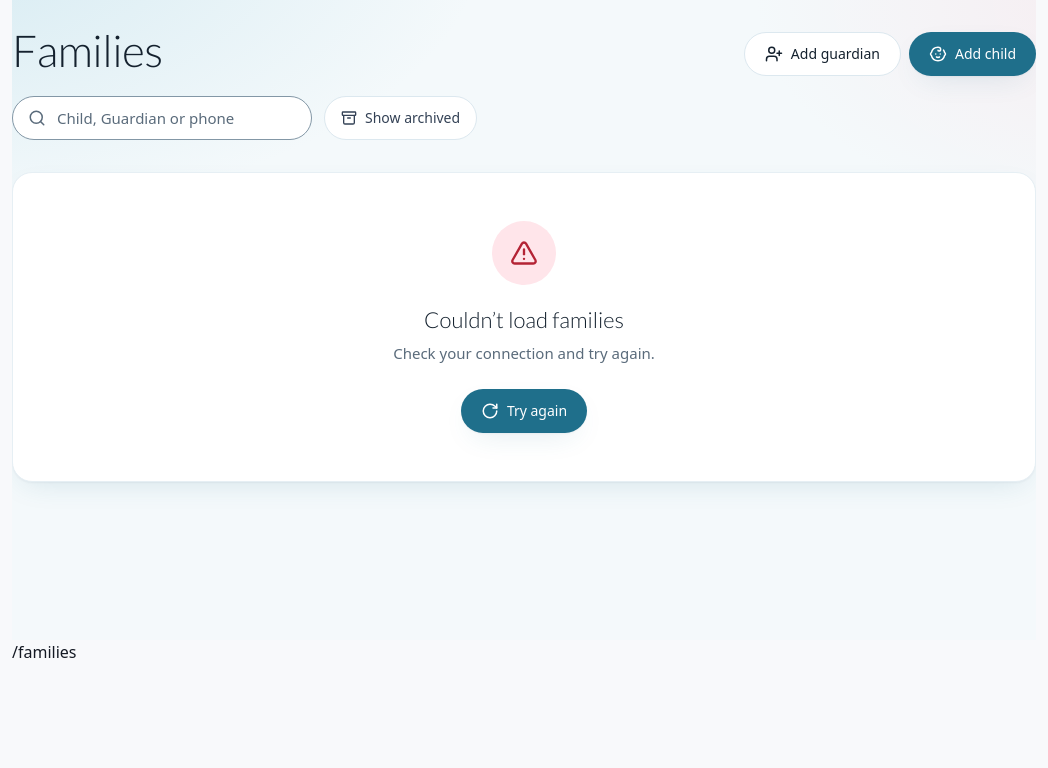
Scenario: families list › offers Try again when the list fails to load
This screenshot has width=1048, height=768.
Check: the heading "Couldn’t load families" is shown, box x1=424 y1=305 x2=624 y2=335
Check: the heading "Families" is shown, box x1=12 y1=24 x2=163 y2=76
Click the button "Try again".
click(524, 411)  # box x1=461 y1=389 x2=587 y2=433
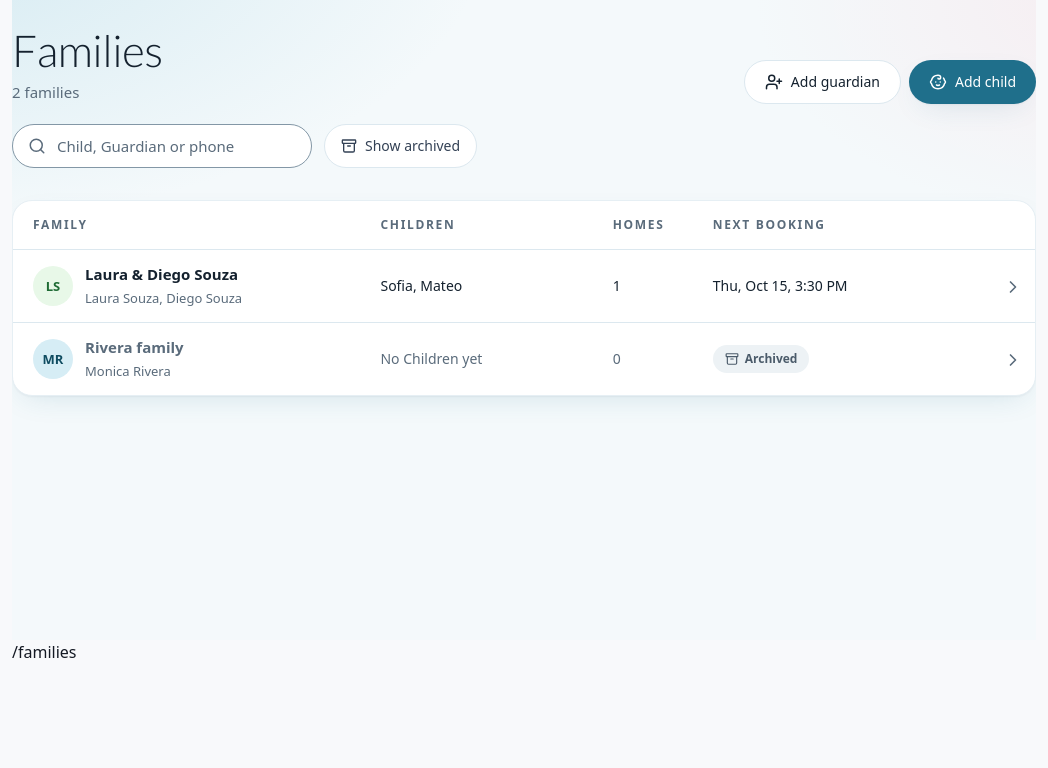
Check: the text "Laura & Diego Souza" is shown, box x1=85 y1=262 x2=242 y2=286
